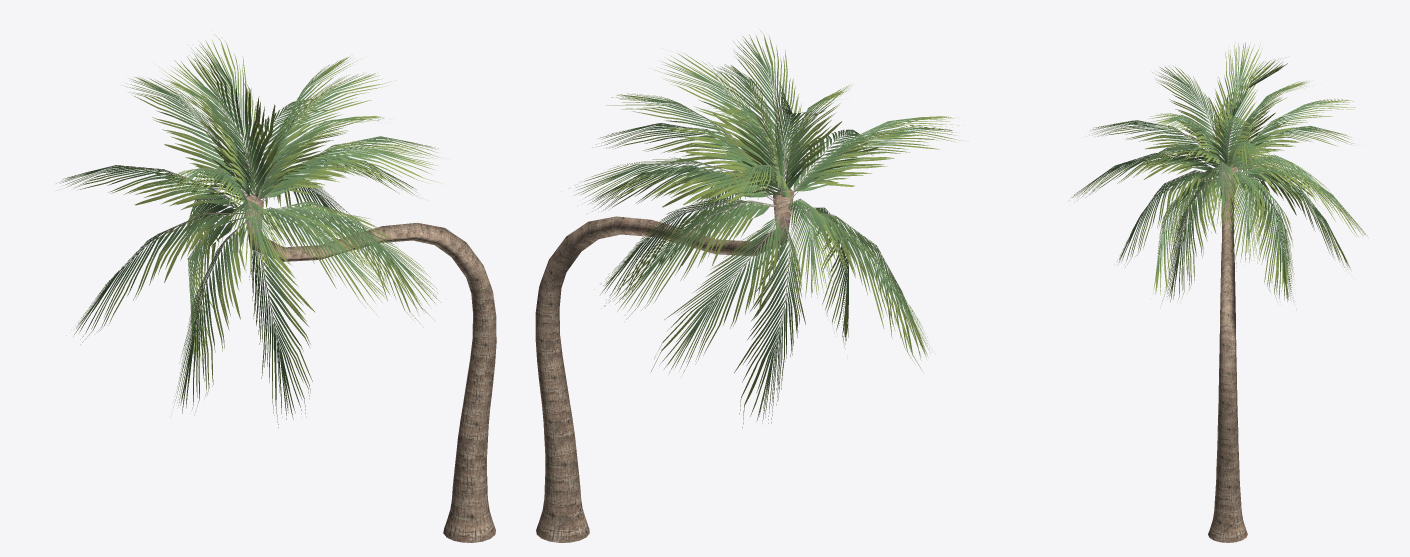
File: palm_coconut_0.glb
The picture shows the model from 3 angles, left to right: view 1: azimuth 30°, elevation 25°; view 2: azimuth 150°, elevation 25°; view 3: azimuth 270°, elevation 25°; orthographic projection. The views are drawn at different scales.
Visible parts, largest first — view 1: prop; view 2: prop; view 3: prop.
Boxes of the visible parts, x1,y1,x2,y2 form: prop: (56, 34, 496, 542); prop: (535, 29, 968, 542); prop: (1070, 41, 1368, 542).
Bounding box in the file's own units: 8.27 × 9.7 × 7.9.
2 materials, 2 textured.
